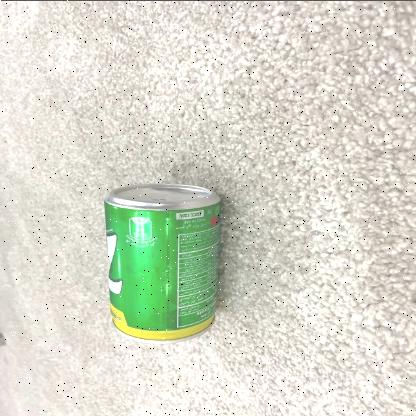Can: (101, 180, 223, 342)
